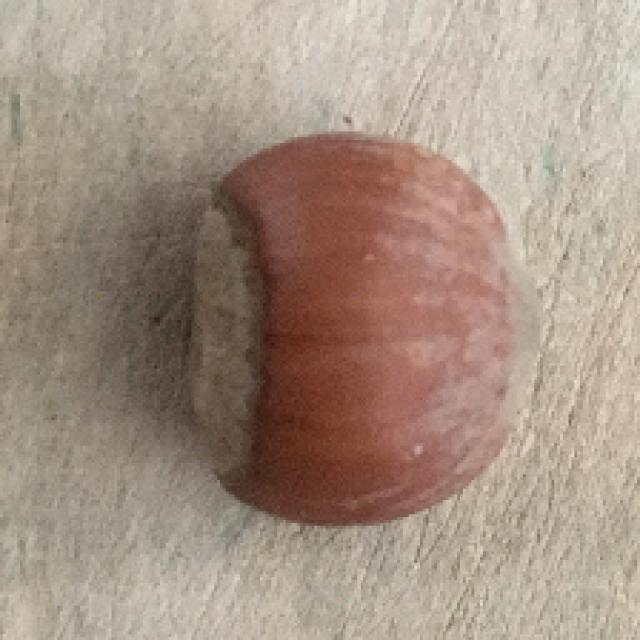QualityHazelnut: (181, 130, 548, 529)
